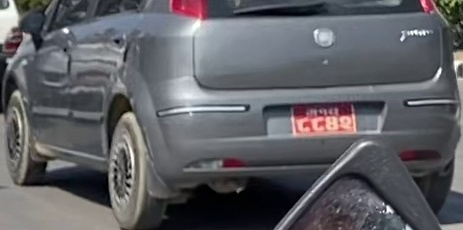license_plate: (291, 103, 356, 136)
